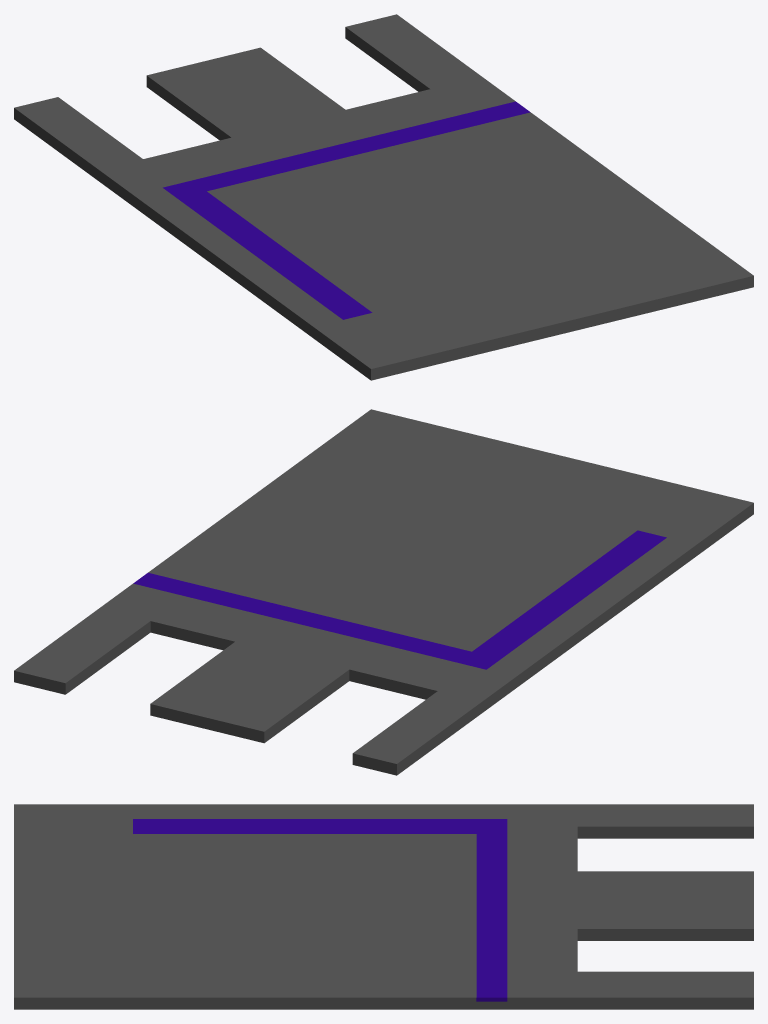
Rendered from subway1-1.obj.
The picture shows the model from 3 angles, top to bottom: view 1: azimuth 30°, elevation 25°; view 2: azimuth 150°, elevation 25°; view 3: azimuth 270°, elevation 25°; orthographic projection. The views are drawn at different scales.
Bounding box in the file's own units: 10.4 × 0.3 × 16.8.
